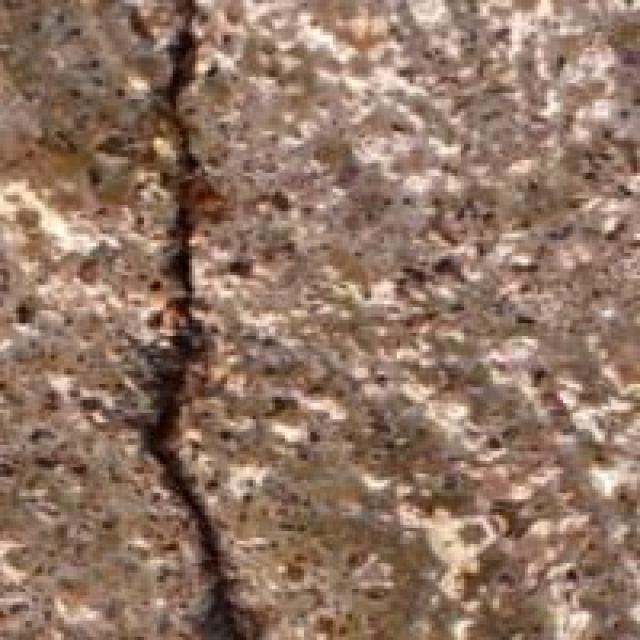Crack: (80, 0, 291, 608)
